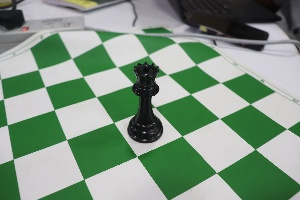black_queen: (120, 48, 168, 149)
